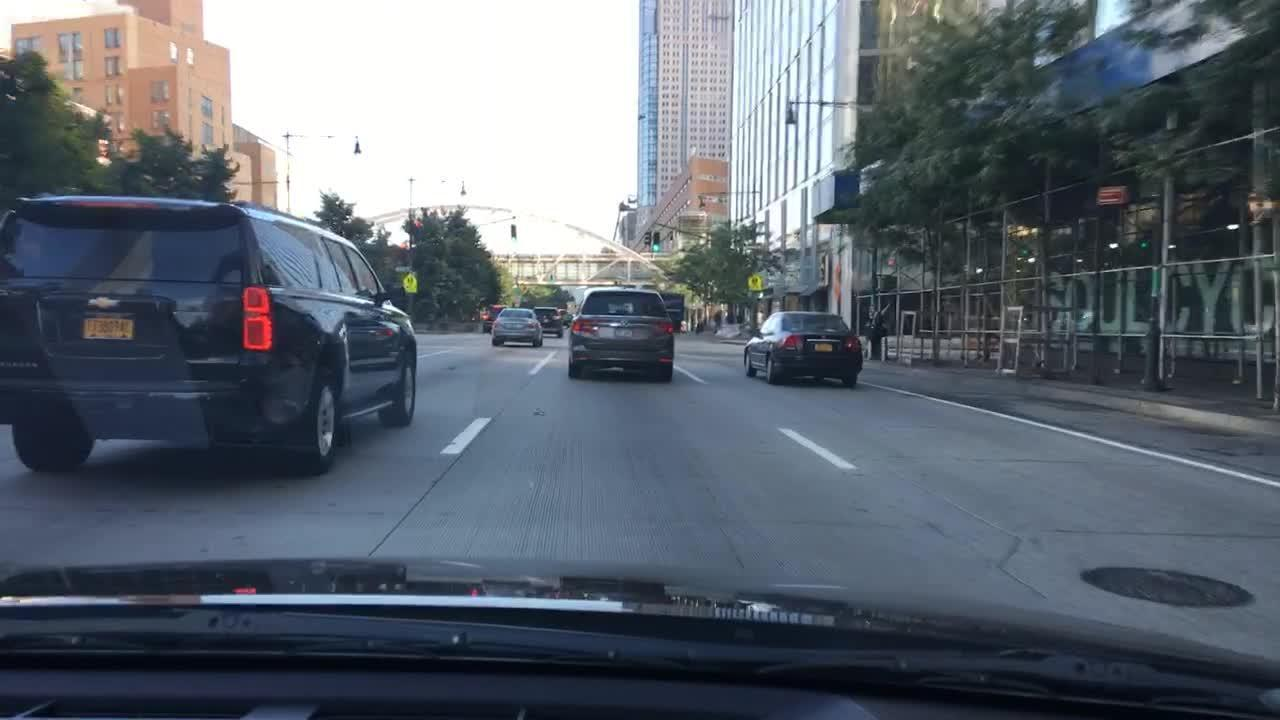chevrolet: (79, 288, 135, 314)
